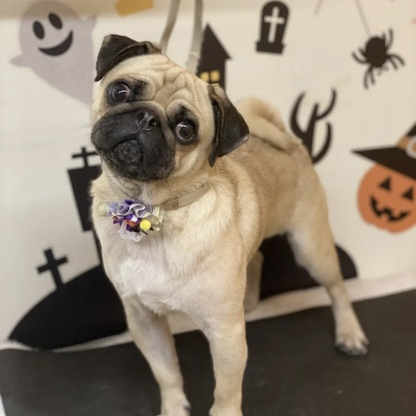Pug: (79, 25, 377, 416)
